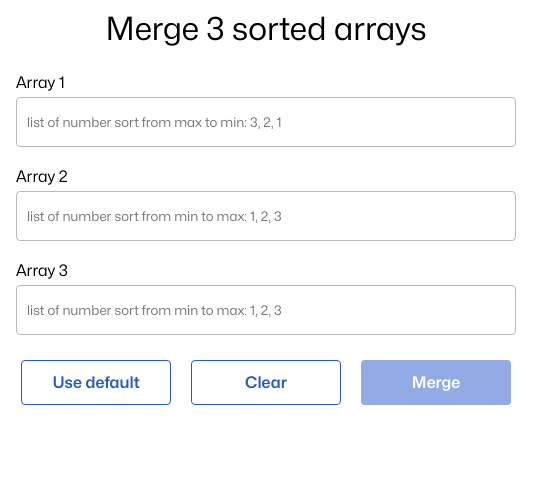
Test case: <Home /> › not sorted and should show error
The image size is (533, 500).
Type "8, 3" into the field with id "array1-input". click: point(266, 122)
box: [16,97,516,147]
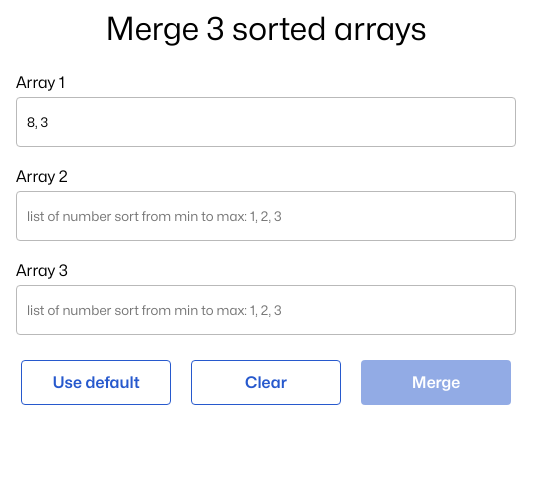
Type "2, 5" into the field with id "array2-input". click: point(266, 216)
box: [16,191,516,241]
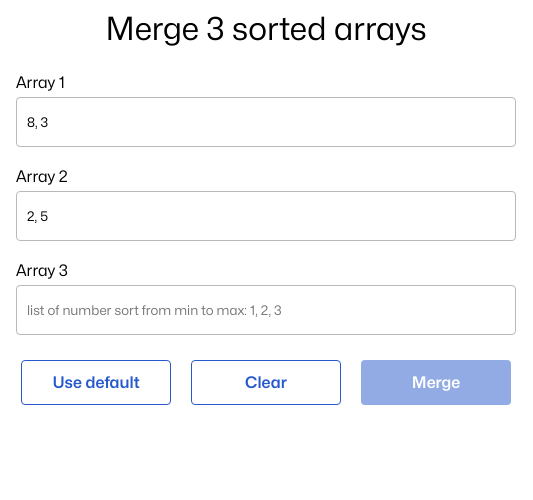
Type "1, 6, 4" into the field with id "array3-input". click: point(266, 310)
box: [16,285,516,335]
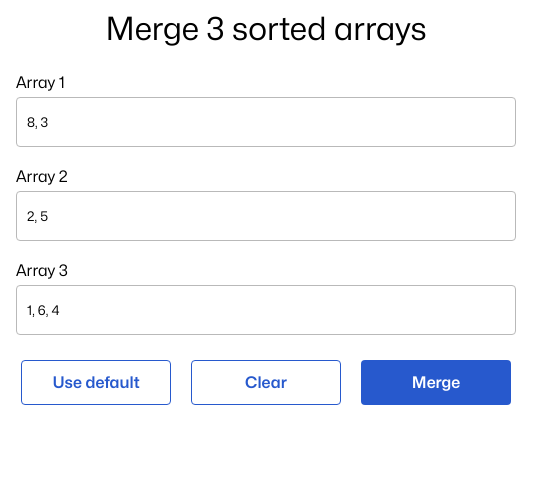
Click the button with id "merge-button". click: point(436, 382)
box: [361,360,511,405]
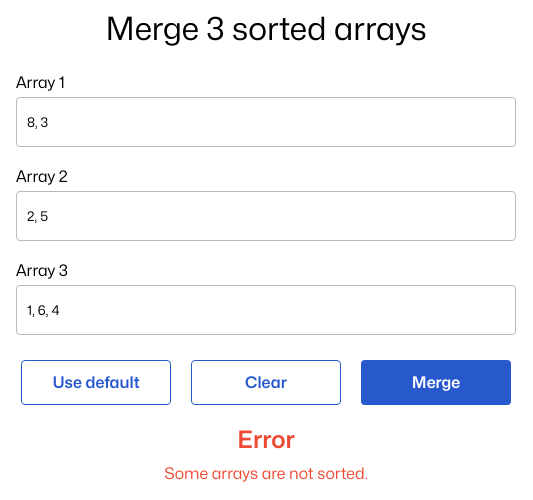
Check: the text "Error" is shown, box [237,425,295,454]
Check: the text "Some arrays are not sorted." is shown, box [164,464,368,483]
